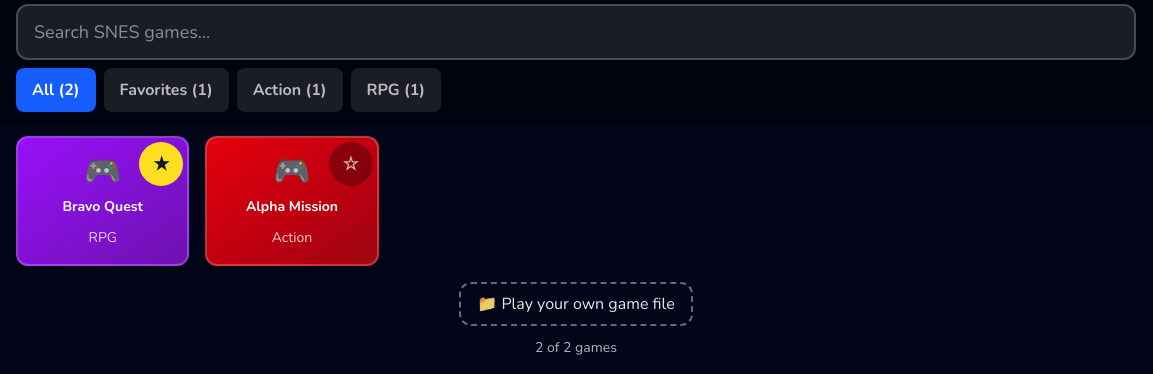
Scenario: GameBrowser favorites › counts only the favorites that this catalog lists
What coordinates should you click on to do the following:
click the button "Favorites (1)"
I would click on:
 (166, 90)
Its box is [104,68,229,112].
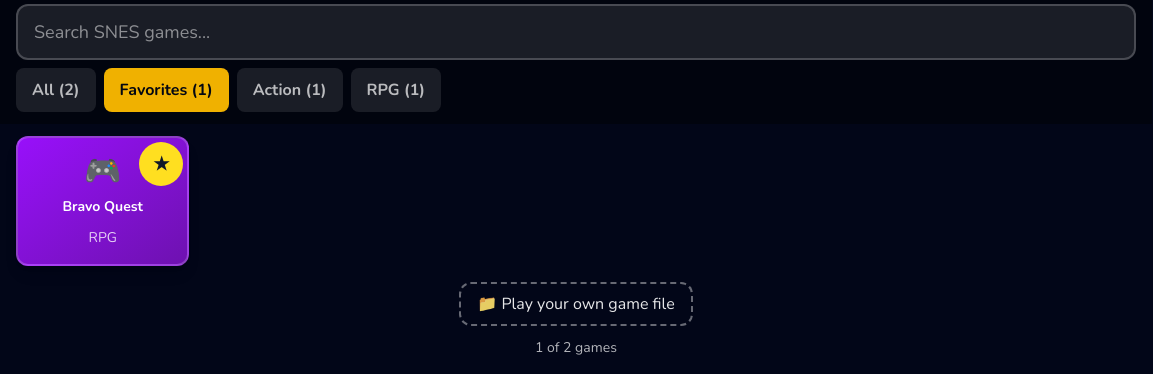
Expected: the heading "Bravo Quest" is shown, [62,198,143,216]
Result: the text "1 of 2 games" is shown at [535,338,617,357]
